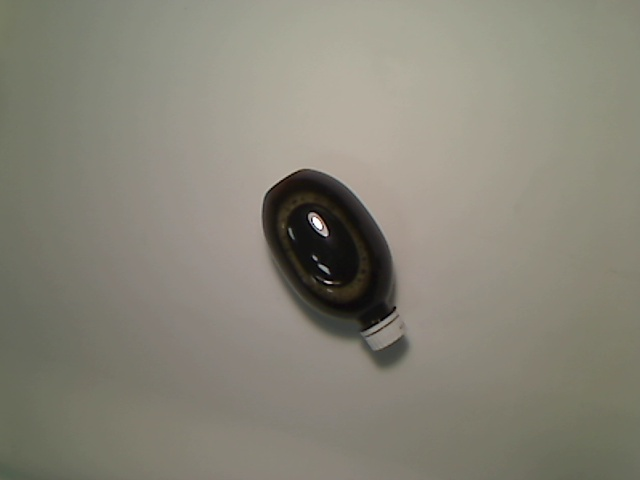plast_bottle: (260, 164, 409, 355)
